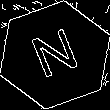N_S: (26, 24, 84, 86)
